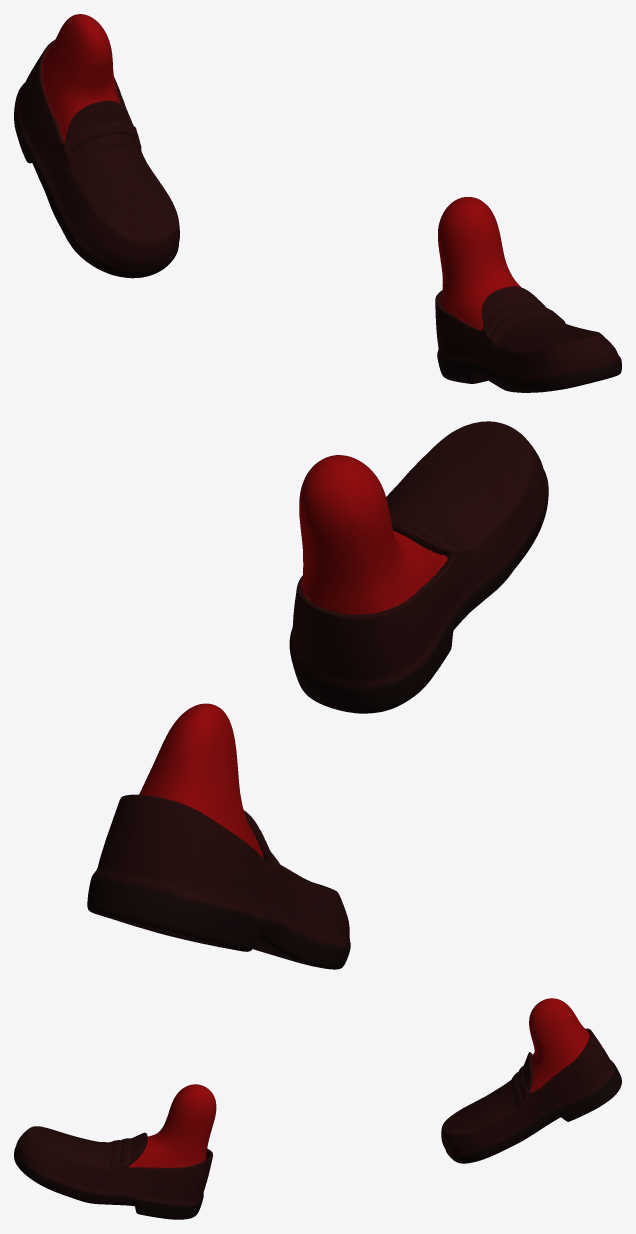
Rendered from Male_Loafers_Redsocks.glb.
The picture shows the model from 3 angles, top to bottom: view 1: azimuth 30°, elevation 25°; view 2: azimuth 150°, elevation 25°; view 3: azimuth 270°, elevation 25°; orthographic projection. The views are drawn at different scales.
Visible parts, largest first — view 1: Loafers_Redsocks 02; view 2: Loafers_Redsocks 02; view 3: Loafers_Redsocks 02.
Part boxes in pixels (left/top/right/bottom): Loafers_Redsocks 02: left=14, top=14, right=621, bottom=392; Loafers_Redsocks 02: left=87, top=421, right=548, bottom=969; Loafers_Redsocks 02: left=14, top=998, right=621, bottom=1219.
Bounding box in the file's own units: 0.5549 × 0.4441 × 1.55.
Materials: 1 (1 with a texture image).
